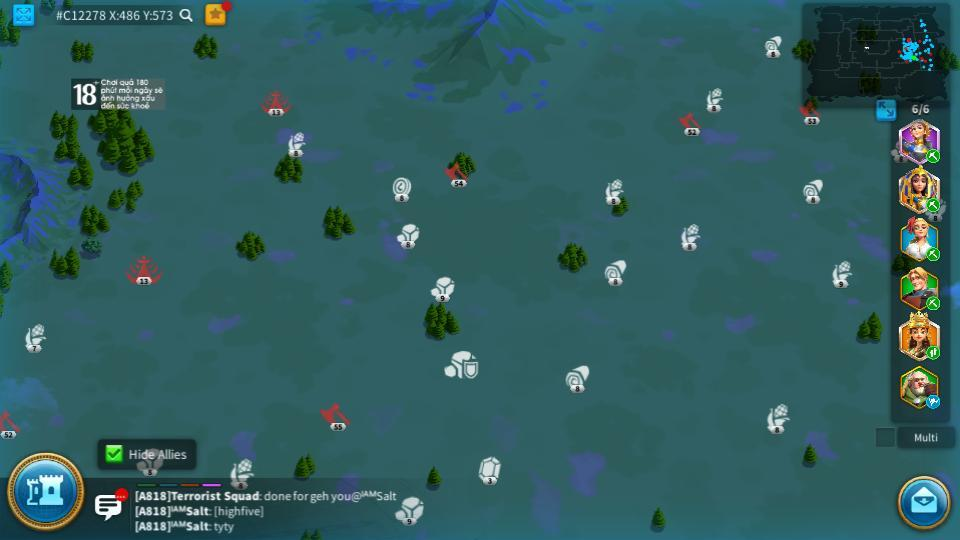march_idle: (925, 396, 942, 408)
march_marching: (925, 345, 941, 359), (925, 150, 941, 162), (925, 297, 942, 308), (926, 250, 941, 261)
